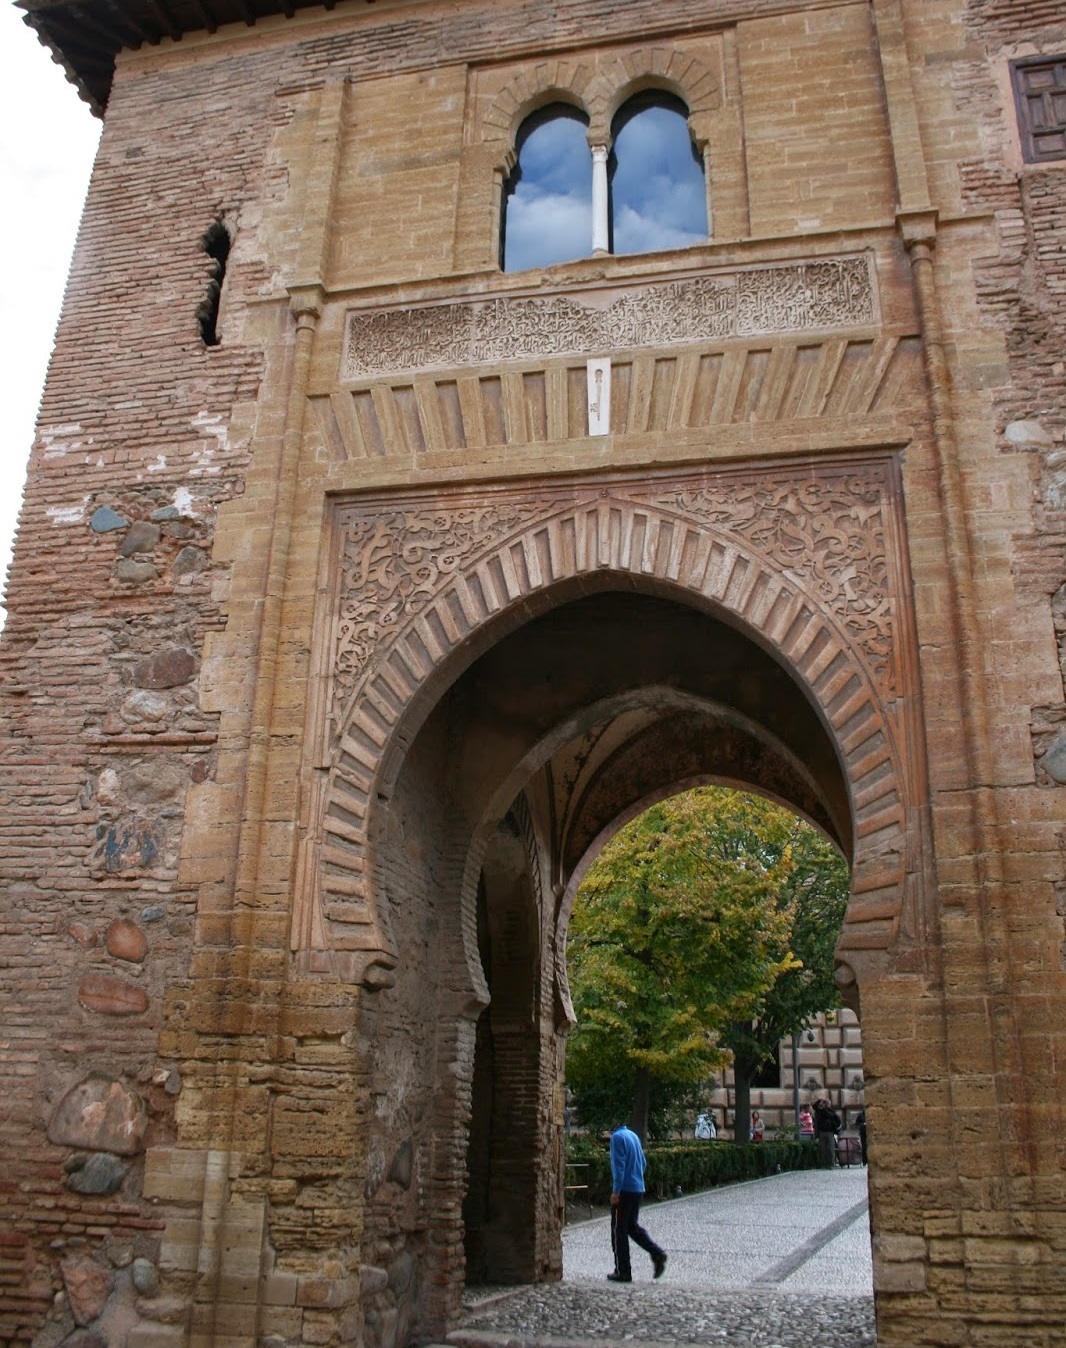arco-herradura: (341, 541, 887, 1027), (600, 63, 710, 163), (497, 75, 598, 176)
dintel-adovelado: (323, 329, 909, 470)
